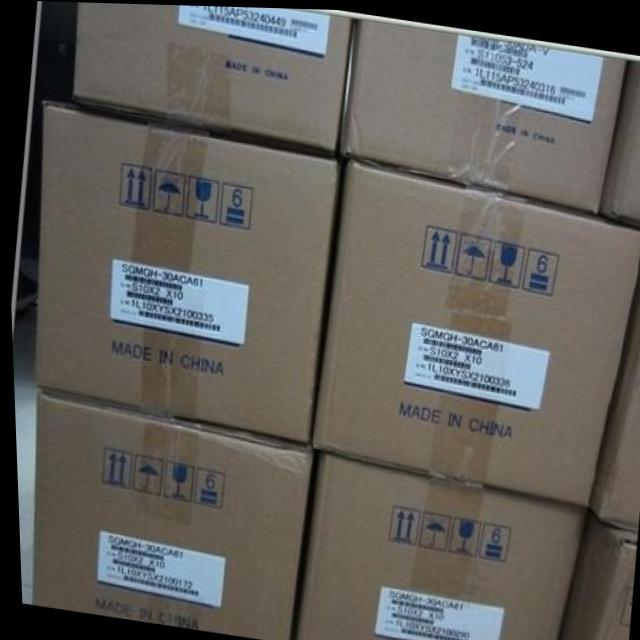box: (305, 155, 640, 501), (33, 92, 342, 444), (29, 390, 309, 637), (334, 14, 628, 212), (290, 447, 584, 640), (71, 2, 353, 155), (585, 256, 640, 525), (550, 501, 633, 640), (596, 57, 640, 220)
